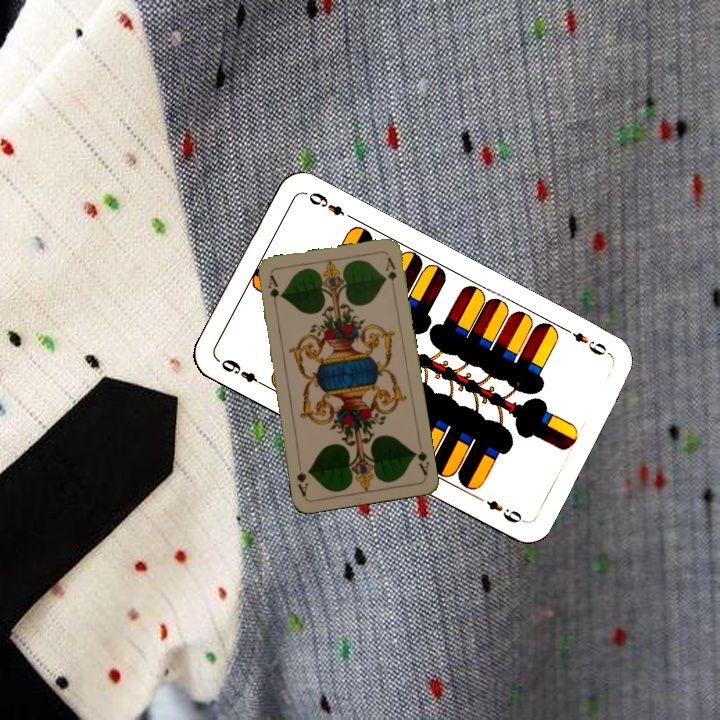E9: (559, 323, 614, 358), (216, 355, 269, 390)
GA: (264, 271, 282, 311), (409, 447, 431, 478)
